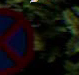No Stopping: (0, 3, 36, 73)
